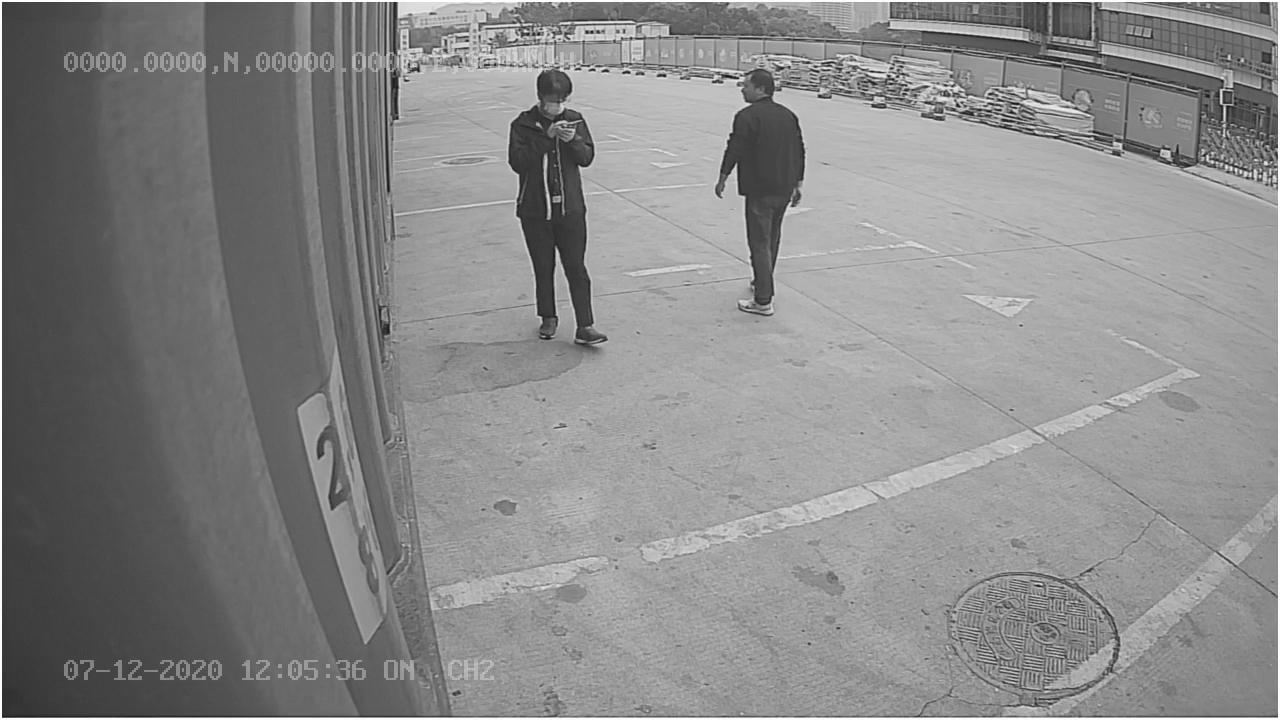person: (507, 67, 619, 348), (712, 66, 810, 320)
